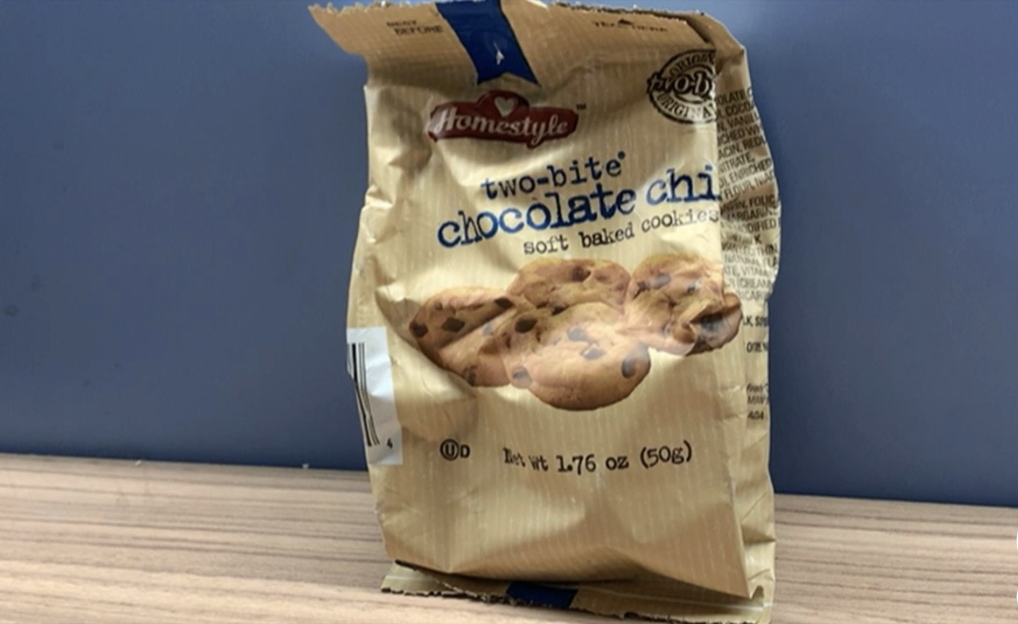cookies_50g: (405, 93, 733, 514)
